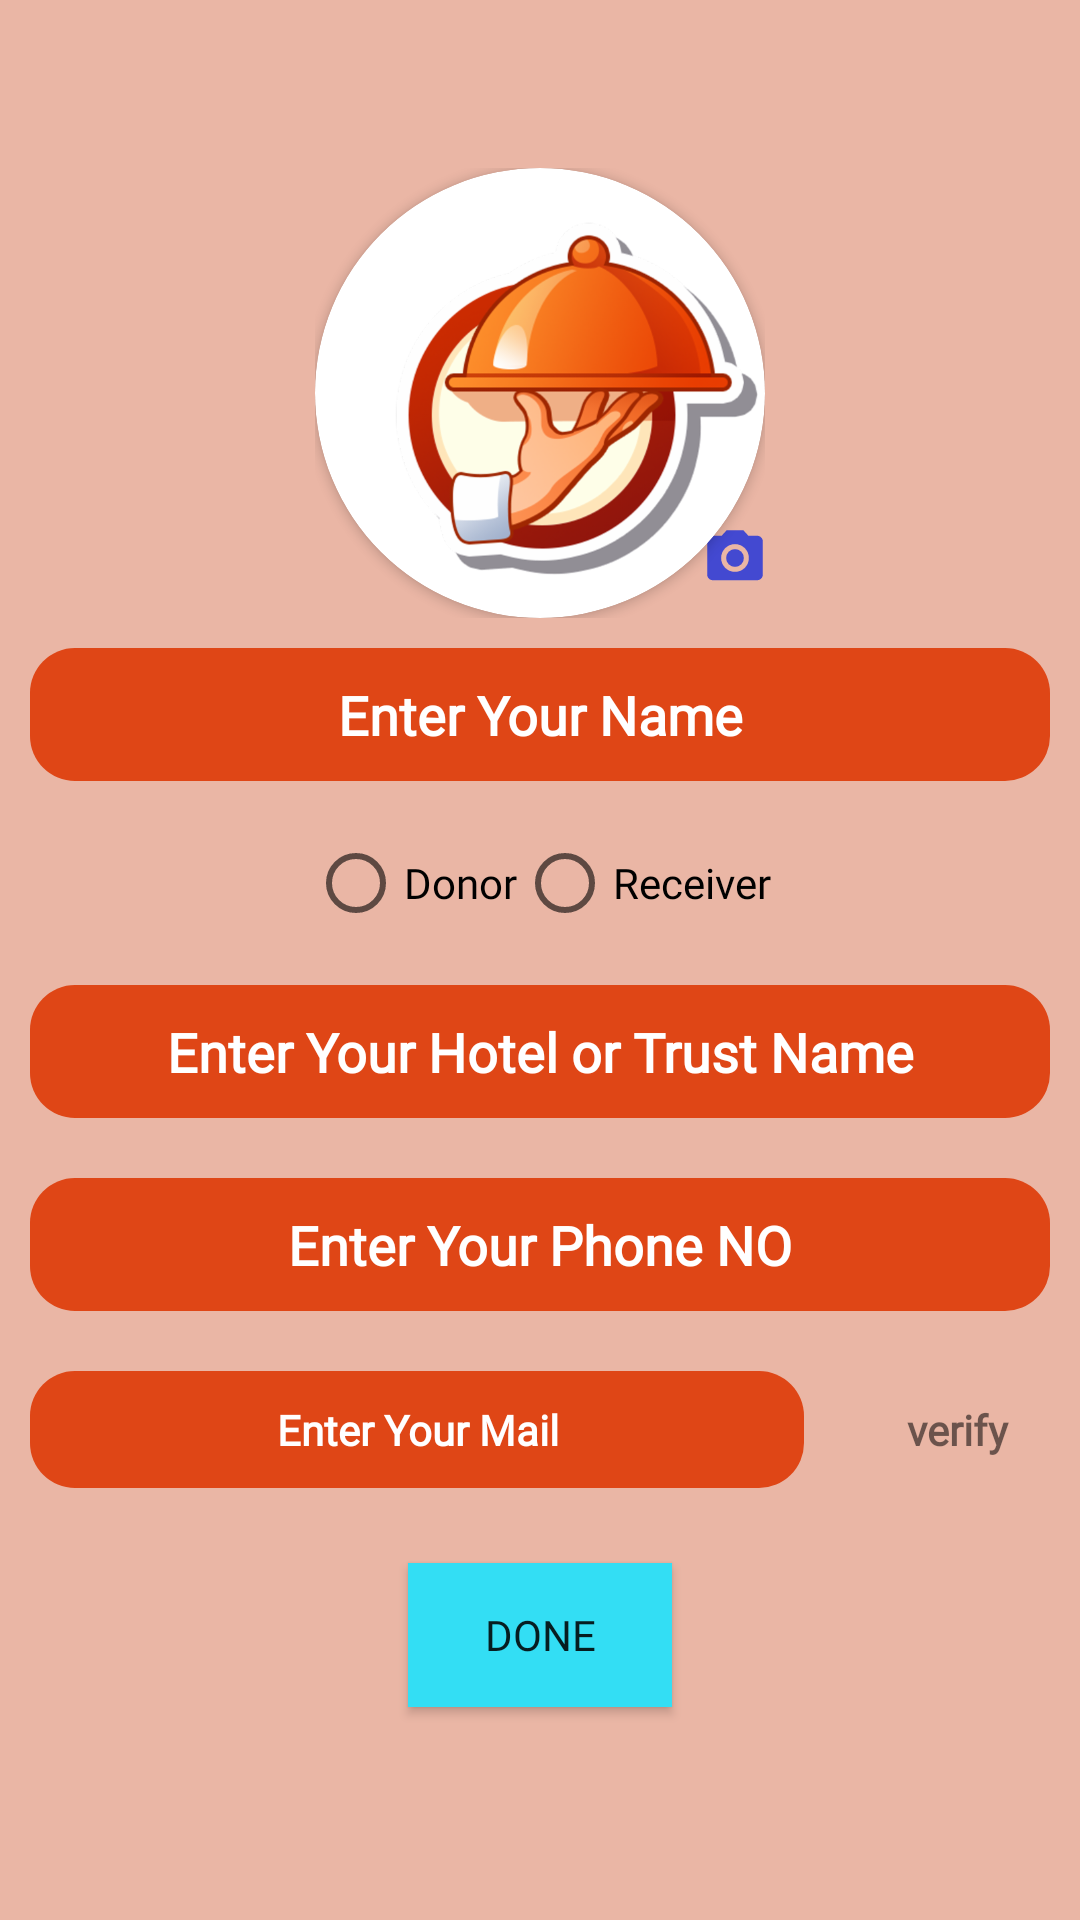

Locate icon controls on the screen. Image size 1080 x 1920, boxes as (x1, y1, x2, y2).
camera: (705, 528, 763, 581)
